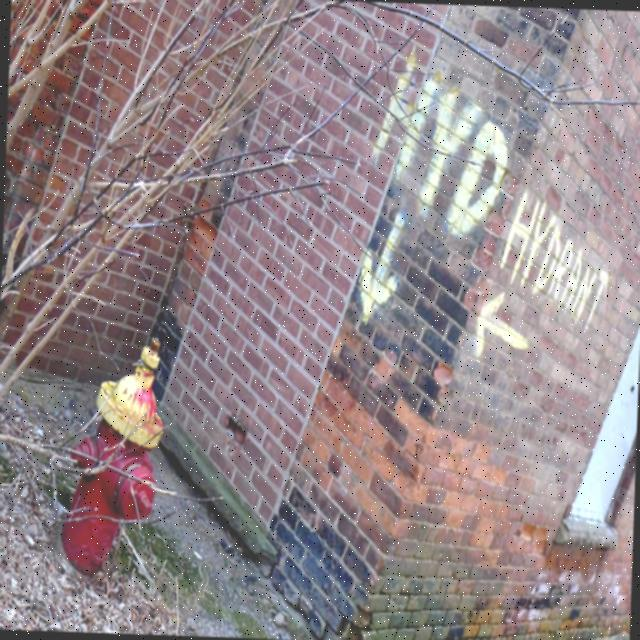fire_hydrant: (55, 340, 166, 580)
